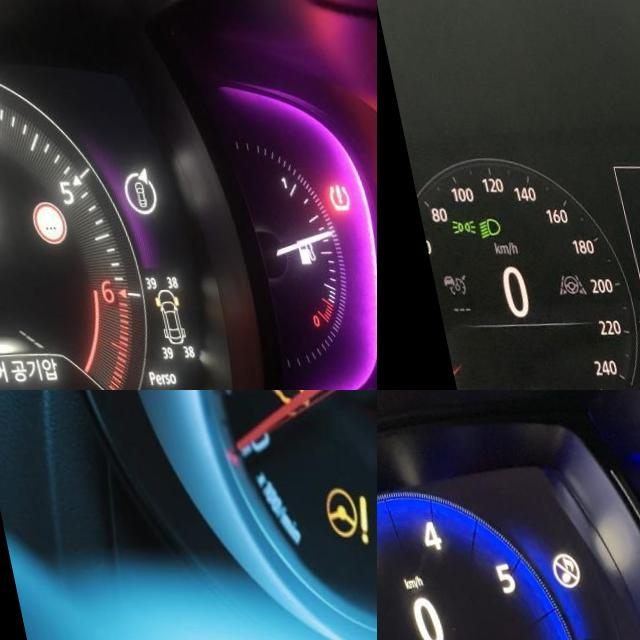Low beam: (464, 216, 490, 239)
SideLamp: (351, 544, 377, 583), (437, 218, 464, 235)
